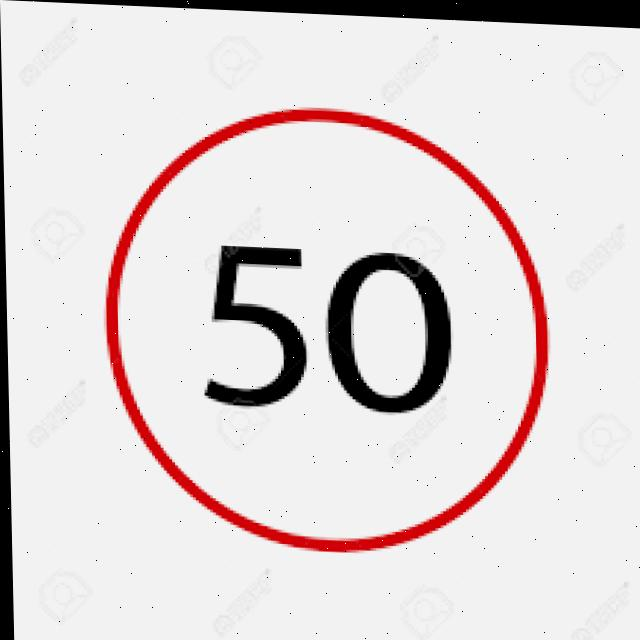Speed limit 50: (96, 93, 557, 561)
